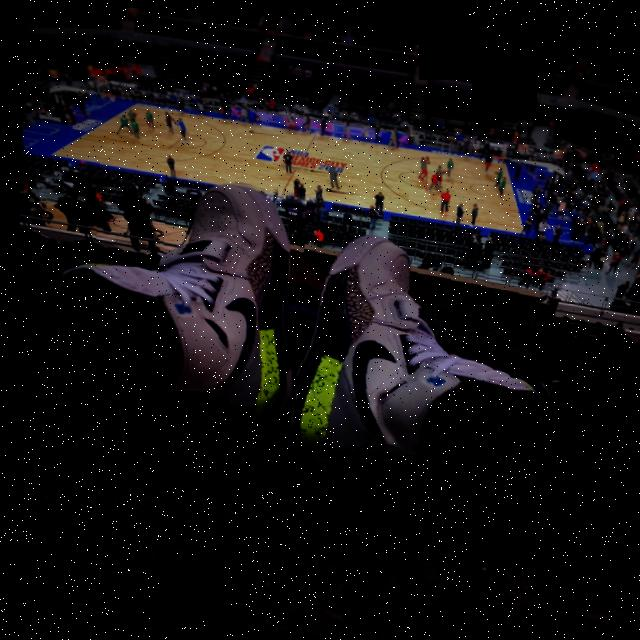shoe: (278, 215, 562, 490), (43, 153, 314, 426)
